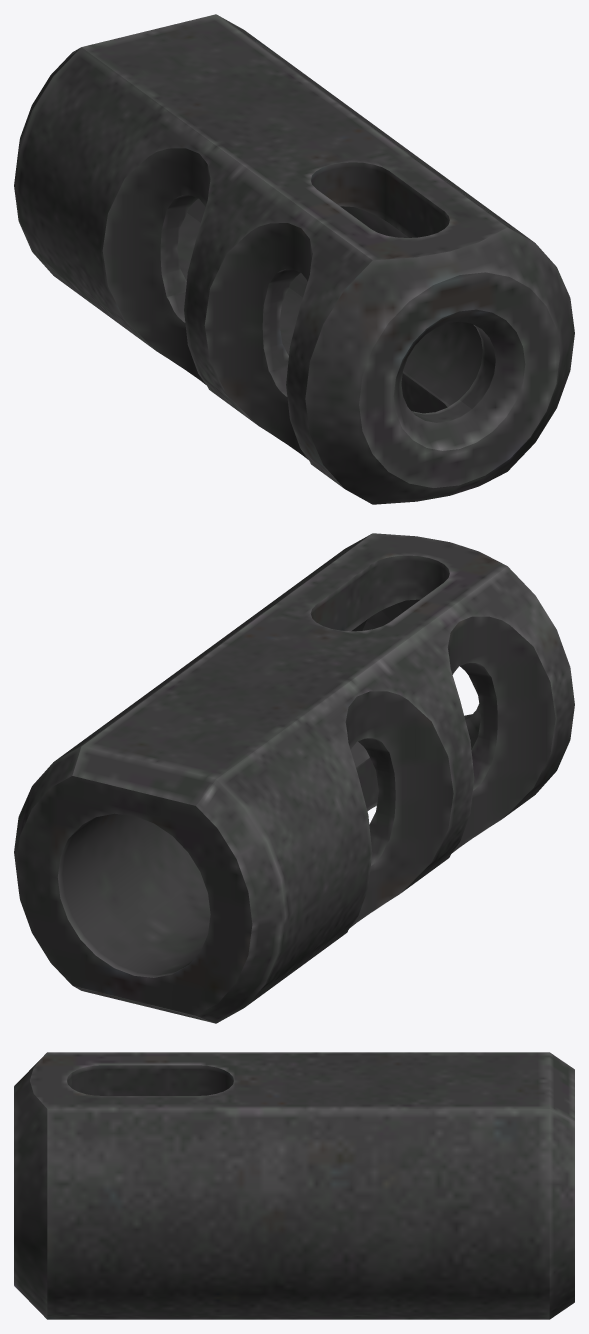
The model's file is sm71_902_vp70powerup.fbx.
3 views of the same model, one above another, from view 1: azimuth 30°, elevation 25°; view 2: azimuth 150°, elevation 25°; view 3: azimuth 270°, elevation 25° (orthographic). The views are drawn at different scales.
Parts seen in each view (by area): view 1: LOD_1_Group_0_Sub_1__wp0000_PowerUp_Mat; view 2: LOD_1_Group_0_Sub_1__wp0000_PowerUp_Mat; view 3: LOD_1_Group_0_Sub_1__wp0000_PowerUp_Mat.
Part boxes in pixels (bbox=[...]): LOD_1_Group_0_Sub_1__wp0000_PowerUp_Mat: bbox=[14, 14, 574, 504]; LOD_1_Group_0_Sub_1__wp0000_PowerUp_Mat: bbox=[14, 533, 574, 1023]; LOD_1_Group_0_Sub_1__wp0000_PowerUp_Mat: bbox=[14, 1052, 574, 1319].
Size of the model in its own units: 0.0266 by 0.023 by 0.0555.
